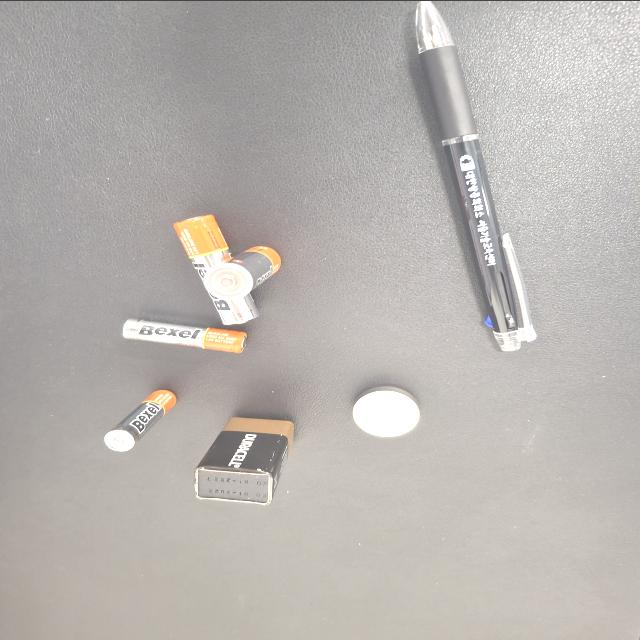9V: (182, 306, 298, 380)
AA: (421, 290, 568, 356), (453, 312, 528, 372)
AAA: (252, 238, 336, 292), (384, 252, 430, 344)
COIN: (272, 424, 338, 474)
